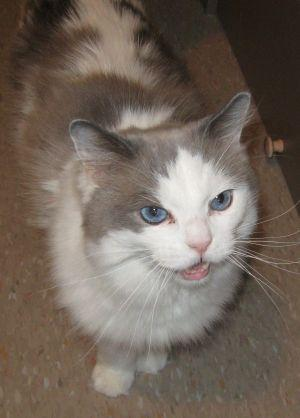ragdoll: (63, 80, 280, 312)
